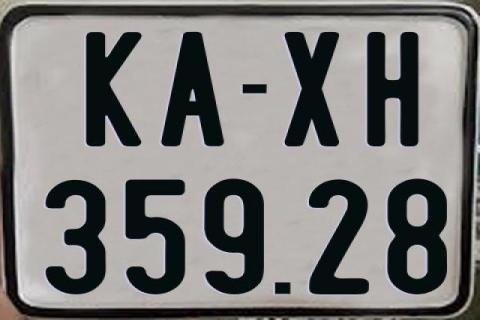0: (384, 177, 448, 295), (124, 177, 186, 297), (203, 177, 264, 295), (308, 177, 369, 293), (46, 180, 106, 295)
A: (161, 32, 228, 149)
H: (364, 31, 419, 146)
K: (85, 32, 146, 150)
X: (281, 29, 336, 145)
